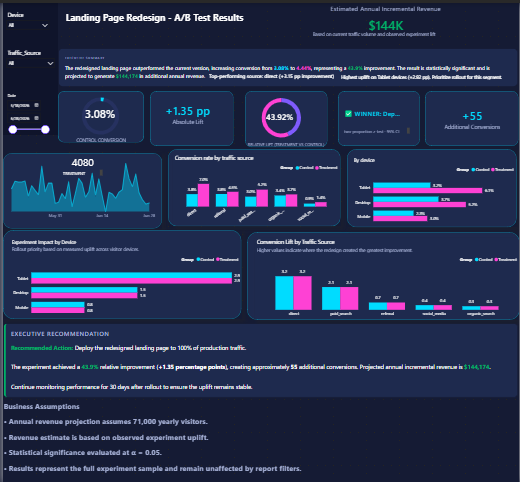

Layout of this report page (visuals, bound fields, positions):
{"tool":"powerbi","page":{"name":"Page 1","canvas":[1500,1400],"ordinal":0},"visuals":[{"type":"shape","box":[0,0,160,384],"z":0},{"type":"shape","box":[160,256,250,150],"z":0,"group":"g1"},{"type":"shape","box":[428.8,256,243.2,160],"z":0,"group":"g10"},{"type":"shape","box":[704,256,240,163.5],"z":0,"group":"g2"},{"type":"shape","box":[974.4,256,238.1,160],"z":0,"group":"g3"},{"type":"shape","box":[1228,256,272,160],"z":0,"group":"g9"},{"type":"shape","box":[480,425,502.2,225],"z":0,"group":"g7"},{"type":"shape","box":[1000,425,493.6,227.8],"z":0,"group":"g6"},{"type":"shape","box":[0,433.7,462.9,220.1],"z":0,"group":"g4"},{"type":"shape","box":[0,661,693.6,259.4],"z":0,"group":"g8"},{"type":"shape","box":[710,665,793.5,256],"z":0,"group":"g5"},{"type":"textbox","box":[176,16,640,64],"z":1000},{"type":"cardVisual","fields":{"Data":["_measures.Absolute Lift Label"]},"box":[416,272,243.2,96],"z":1000,"group":"g10"},{"type":"cardVisual","fields":{"Data":["_measures.Executive Verdict"]},"box":[962.5,272,226.2,96],"z":1000,"group":"g3"},{"type":"cardVisual","fields":{"Data":["_measures.Incremental Conversions Label"]},"box":[1244,272,240,128],"z":1000,"group":"g9"},{"type":"group","id":"g1","title":"Group 1","box":[160,256,256,160],"z":2000},{"type":"textbox","box":[986.3,357.8,202.4,29.1],"z":2000,"group":"g3"},{"type":"group","id":"g2","title":"Group 1","box":[694,256,256,171.1],"z":3000},{"type":"donutChart","fields":{"Y":["_measuress.CR Control","_measuress.CR Control Remainder"]},"box":[193.3,256,183.3,145.5],"z":4000,"group":"g1"},{"type":"donutChart","fields":{"Y":["_measuress.Lift Relative","_measuress.LIFT RELATIVE REMAINDER"]},"box":[731.8,256,153,155.7],"z":4000,"group":"g2"},{"type":"group","id":"g3","title":"Group 2","box":[962.5,256,250,160],"z":4000},{"type":"cardVisual","fields":{"Data":["_measuress.CR Control"]},"box":[210,270.5,166.7,101.8],"z":5000,"group":"g1"},{"type":"cardVisual","fields":{"Data":["_measuress.Lift Relative"]},"box":[736,272,176,112],"z":5000,"group":"g2"},{"type":"textbox","box":[160,384,250,32],"z":6000,"group":"g1"},{"type":"textbox","box":[694,395.1,256,32],"z":6000,"group":"g2"},{"type":"group","id":"g4","title":"Group 4","box":[0,432,480,216],"z":6000},{"type":"group","id":"g5","title":"Group 5","box":[710,665,790,256],"z":7000},{"type":"group","id":"g6","title":"Group 5","box":[1000,425,500,223],"z":8000},{"type":"areaChart","fields":{"Category":["Calendar.Date"],"Series":["Visitors.Group"],"Y":["_measuress.Conversion Rate"]},"box":[0,447.7,448.4,188.7],"z":8000,"group":"g4"},{"type":"slicer","fields":{"Values":["Visitors.Device"]},"box":[0,16,144,80],"z":9000},{"type":"card","fields":{"Values":["_measuress.Visitors Count"]},"box":[175.1,432,115.7,62.9],"z":9000,"group":"g4"},{"type":"slicer","fields":{"Values":["Visitors.Traffic_Source"]},"box":[0,128,160,64],"z":10000},{"type":"clusteredColumnChart","title":"Conversion rate by traffic source","fields":{"Category":["Visitors.Traffic_Source"],"Series":["Visitors.Group"],"Y":["_measuress.Conversion Rate"]},"box":[494,440,488.3,210],"z":10000,"group":"g7"},{"type":"clusteredBarChart","title":"By device","fields":{"Category":["Visitors.Device"],"Series":["Visitors.Group"],"Y":["_measuress.Conversion Rate"]},"box":[1013.7,446.3,479.9,212.7],"z":10000,"group":"g6"},{"type":"textbox","box":[168.3,478.3,126.2,30.9],"z":10000,"group":"g4"},{"type":"clusteredColumnChart","title":"Conversion Lift by Traffic Source","fields":{"Category":["Visitors.Traffic_Source"],"Series":["Visitors.Group"],"Y":["_measures.Traffic Source Lift"]},"box":[732,682.1,771.5,238.9],"z":10000,"group":"g5"},{"type":"clusteredBarChart","title":"Experiment Impact by Device","fields":{"Category":["Visitors.Device"],"Series":["Visitors.Group"],"Y":["_measures.Device Lift"]},"box":[19.3,685.2,674.3,242.1],"z":10000,"group":"g8"},{"type":"slicer","fields":{"Values":["Calendar.Date"]},"box":[0,256,144,160],"z":11000},{"type":"card","title":"Estimated Annual Incremental Revenue","fields":{"Values":["_measuress.Projected Annual Value"]},"box":[944,4,336,96],"z":12000},{"type":"textbox","box":[896,76,384,48],"z":13000},{"type":"htmlContent443BE3AD55E043BF878BED274D3A6865","fields":{"content":["_measures.Executive Summary"]},"box":[156,128,1344,144],"z":14000},{"type":"group","id":"g7","title":"Group 5","box":[480,425,500,225],"z":16000},{"type":"cardVisual","fields":{"Data":["_measures.Top Traffic Insight"]},"box":[570,172,480,80],"z":17000},{"type":"group","id":"g8","title":"Group 5","box":[0,661,696,240],"z":18000},{"type":"cardVisual","fields":{"Data":["_measures.Top Device Insight"]},"box":[954,156,528,112],"z":19000},{"type":"htmlContent443BE3AD55E043BF878BED274D3A6865","fields":{"content":["_measures.Executive Recommendation"]},"box":[-4,928,1504,224],"z":20000},{"type":"textbox","box":[-4,1152,1504,224],"z":21000},{"type":"group","id":"g9","title":"Group 2","box":[1228,256,272,160],"z":22000},{"type":"group","id":"g10","title":"Group 2","box":[416,256,256,160],"z":23000}]}

Visuals, with their boxes in screenshot pixels (x1, y1, x2, y2), scaled from the page's 1500x1400 canvas onto the 520x482 screenshot:
shape: (0, 0, 55, 132)
shape: (55, 88, 142, 140)
shape: (149, 88, 233, 143)
shape: (244, 88, 327, 144)
shape: (338, 88, 420, 143)
shape: (426, 88, 519, 143)
shape: (166, 146, 340, 224)
shape: (347, 146, 518, 225)
shape: (0, 149, 160, 225)
shape: (0, 228, 240, 317)
shape: (246, 229, 519, 317)
textbox: (61, 6, 283, 28)
cardVisual - _measures.Absolute Lift Label: (144, 94, 229, 127)
cardVisual - _measures.Executive Verdict: (334, 94, 412, 127)
cardVisual - _measures.Incremental Conversions Label: (431, 94, 514, 138)
"Group 1" group: (55, 88, 144, 143)
textbox: (342, 123, 412, 133)
"Group 1" group: (241, 88, 329, 147)
donutChart - _measuress.CR Control x _measuress.CR Control Remainder: (67, 88, 131, 138)
donutChart - _measuress.Lift Relative x _measuress.LIFT RELATIVE REMAINDER: (254, 88, 307, 142)
"Group 2" group: (334, 88, 420, 143)
cardVisual - _measuress.CR Control: (73, 93, 131, 128)
cardVisual - _measuress.Lift Relative: (255, 94, 316, 132)
textbox: (55, 132, 142, 143)
textbox: (241, 136, 329, 147)
"Group 4" group: (0, 149, 166, 223)
"Group 5" group: (246, 229, 519, 317)
"Group 5" group: (347, 146, 519, 223)
areaChart - Calendar.Date x Visitors.Group: (0, 154, 155, 219)
slicer - Visitors.Device: (0, 6, 50, 33)
card - _measuress.Visitors Count: (61, 149, 101, 170)
slicer - Visitors.Traffic_Source: (0, 44, 55, 66)
"Conversion rate by traffic source" clusteredColumnChart: (171, 151, 341, 224)
"By device" clusteredBarChart: (351, 154, 518, 227)
textbox: (58, 165, 102, 175)
"Conversion Lift by Traffic Source" clusteredColumnChart: (254, 235, 519, 317)
"Experiment Impact by Device" clusteredBarChart: (7, 236, 240, 319)
slicer - Calendar.Date: (0, 88, 50, 143)
"Estimated Annual Incremental Revenue" card: (327, 1, 444, 34)
textbox: (311, 26, 444, 43)
htmlContent443BE3AD55E043BF878BED274D3A6865 - _measures.Executive Summary: (54, 44, 519, 94)
"Group 5" group: (166, 146, 340, 224)
cardVisual - _measures.Top Traffic Insight: (198, 59, 364, 87)
"Group 5" group: (0, 228, 241, 310)
cardVisual - _measures.Top Device Insight: (331, 54, 514, 92)
htmlContent443BE3AD55E043BF878BED274D3A6865 - _measures.Executive Recommendation: (0, 319, 519, 397)
textbox: (0, 397, 519, 474)
"Group 2" group: (426, 88, 519, 143)
"Group 2" group: (144, 88, 233, 143)
